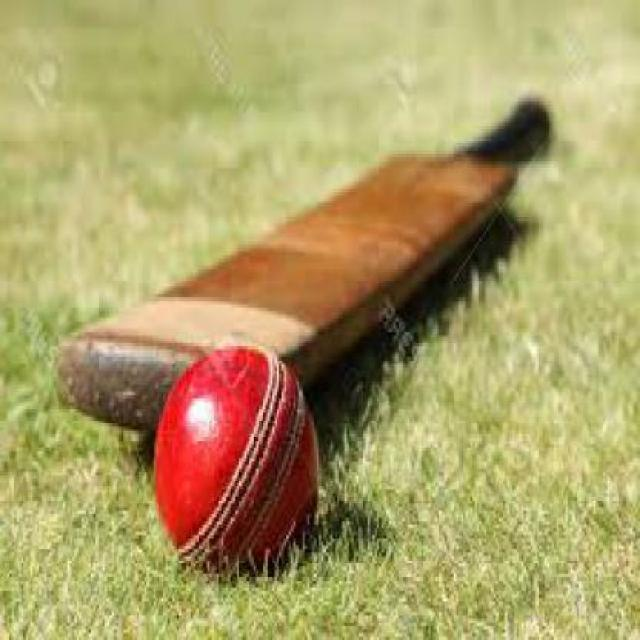ball: (86, 305, 364, 610)
